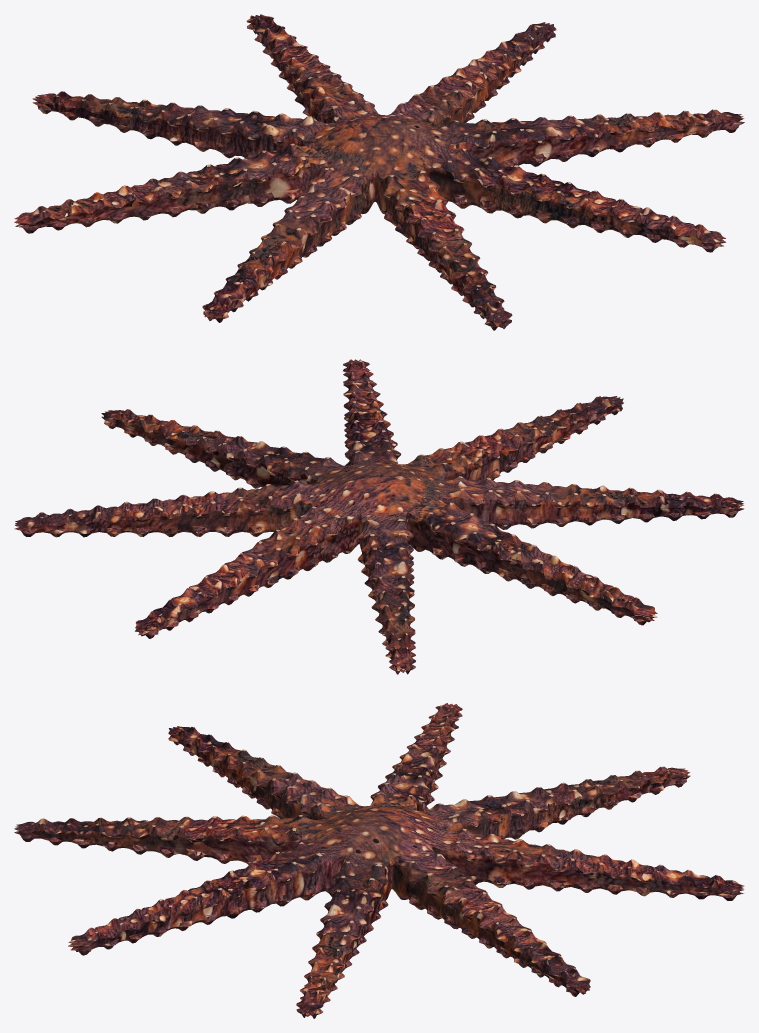
The model's file is Volsellate Crown Star.glb.
3 renders of one model, top to bottom at view 1: azimuth 30°, elevation 25°; view 2: azimuth 150°, elevation 25°; view 3: azimuth 270°, elevation 25°, orthographic. The views are drawn at different scales.
Parts seen in each view (by area): view 1: Cylinder; view 2: Cylinder; view 3: Cylinder.
Part boxes in pixels (box(x1,y1,x2,y2)): Cylinder: box(14, 14, 744, 330); Cylinder: box(14, 359, 744, 674); Cylinder: box(14, 703, 744, 1018).
Bounding box in the file's own units: 10.83 × 0.8986 × 10.83.
3 materials, 2 textured.
